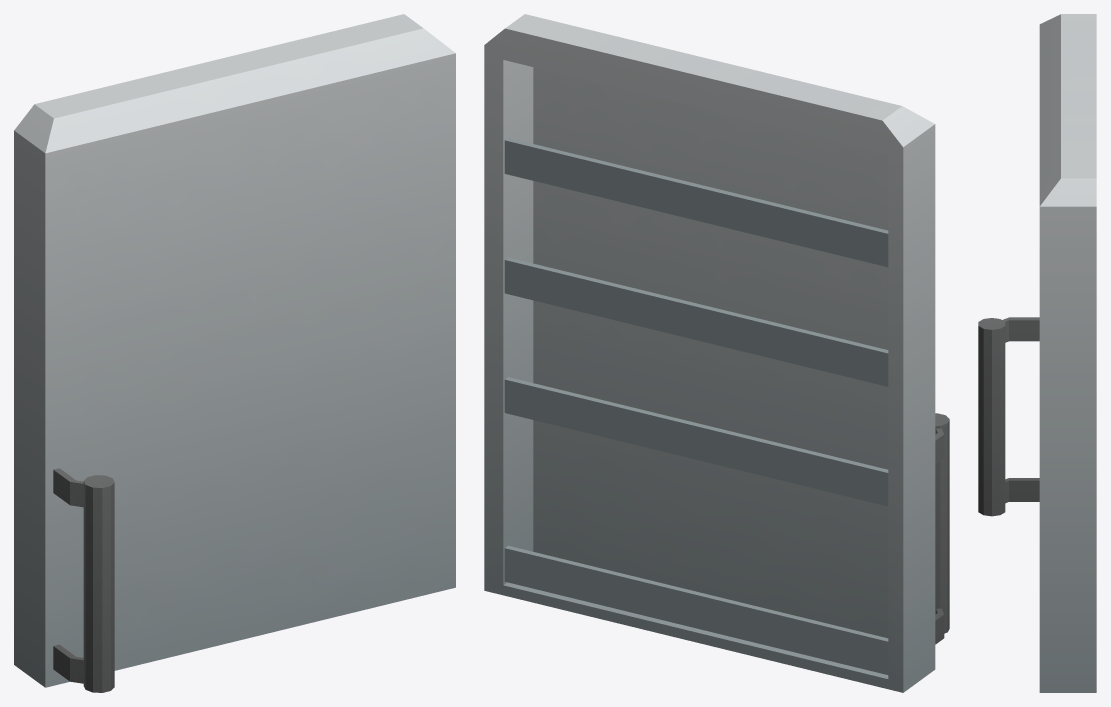
File: FridgeFreezer_UpperDoor.fbx
3 views of the same model, side by side, from view 1: azimuth 30°, elevation 25°; view 2: azimuth 150°, elevation 25°; view 3: azimuth 270°, elevation 25° (orthographic). The views are drawn at different scales.
Visible parts, largest first — view 1: FridgeFreezer_UpperDoor; view 2: FridgeFreezer_UpperDoor; view 3: FridgeFreezer_UpperDoor.
Part boxes in pixels (bbox=[...]): FridgeFreezer_UpperDoor: bbox=[14, 14, 455, 692]; FridgeFreezer_UpperDoor: bbox=[484, 14, 949, 692]; FridgeFreezer_UpperDoor: bbox=[978, 14, 1096, 692].
Bounding box in the file's own units: 85.88 × 111 × 23.56.
